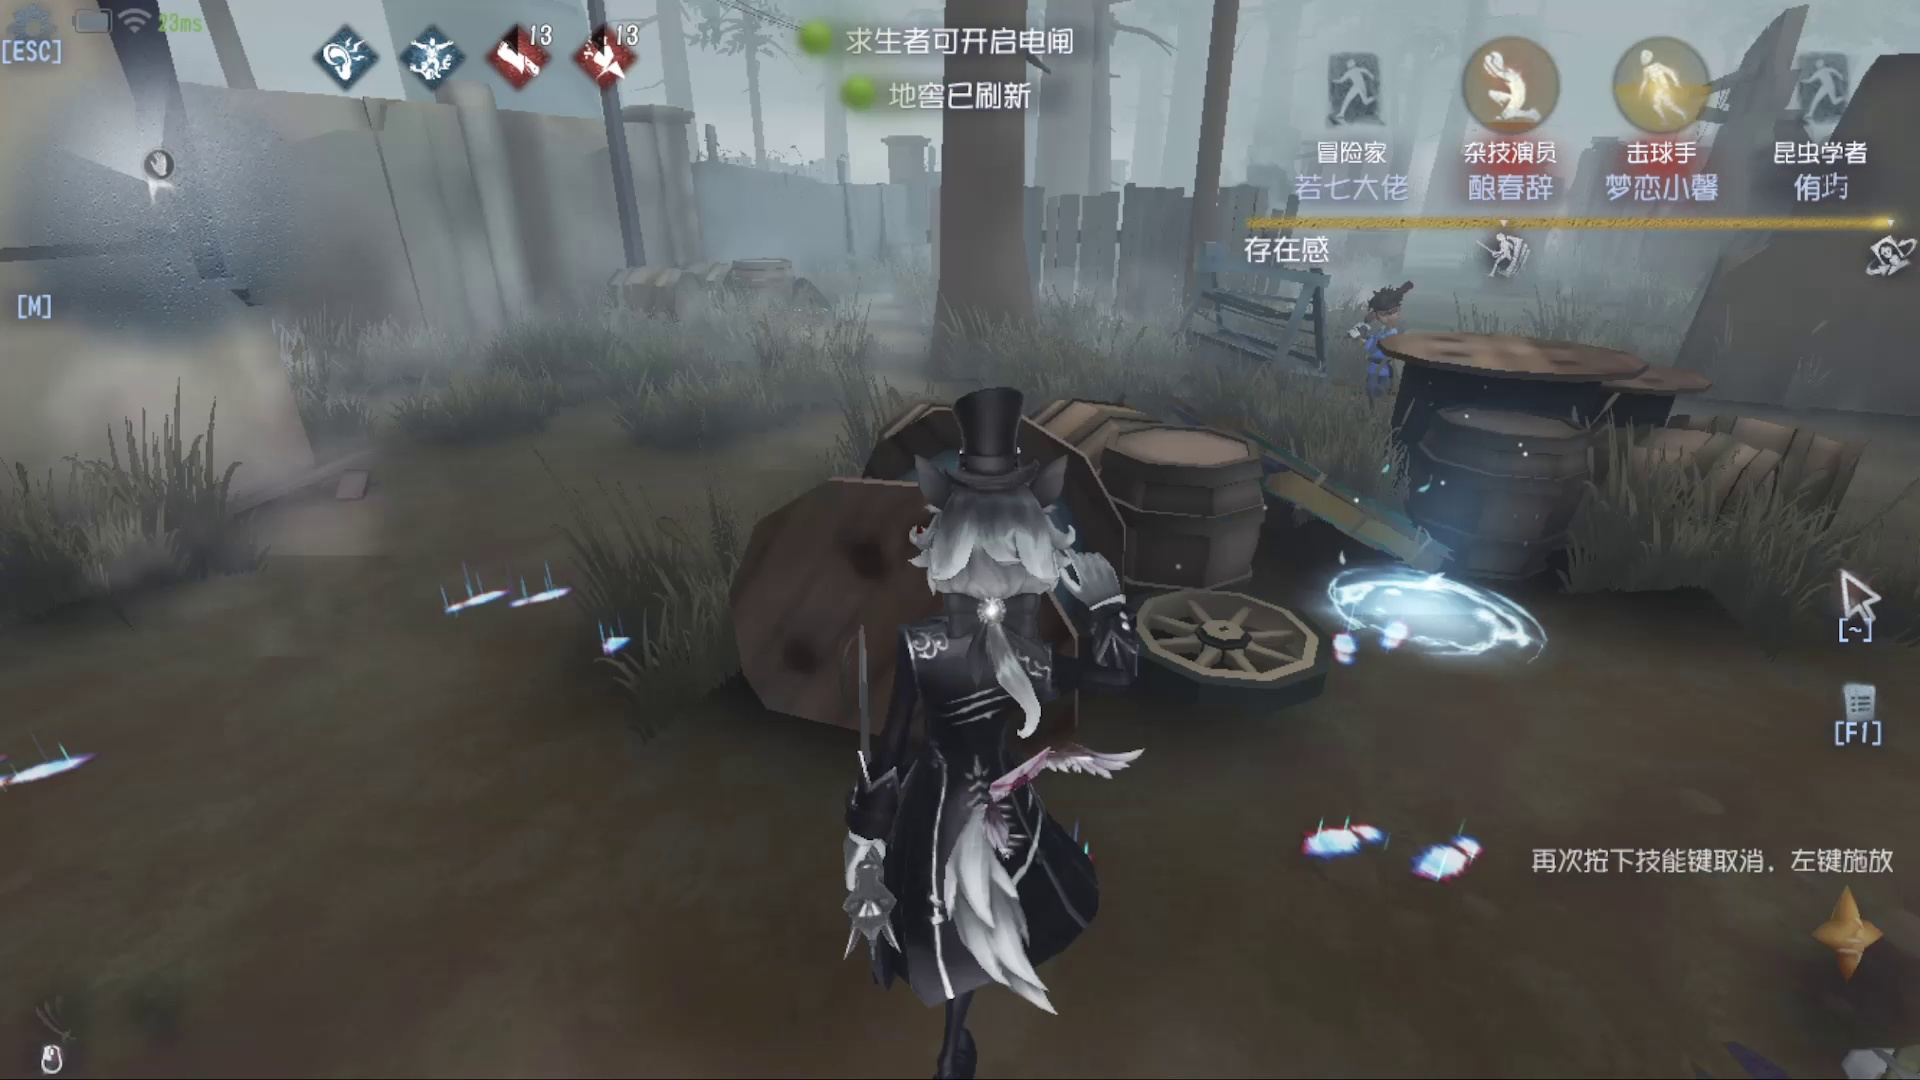木板: (1182, 390, 1455, 568)
求生者: (1349, 266, 1403, 396)
